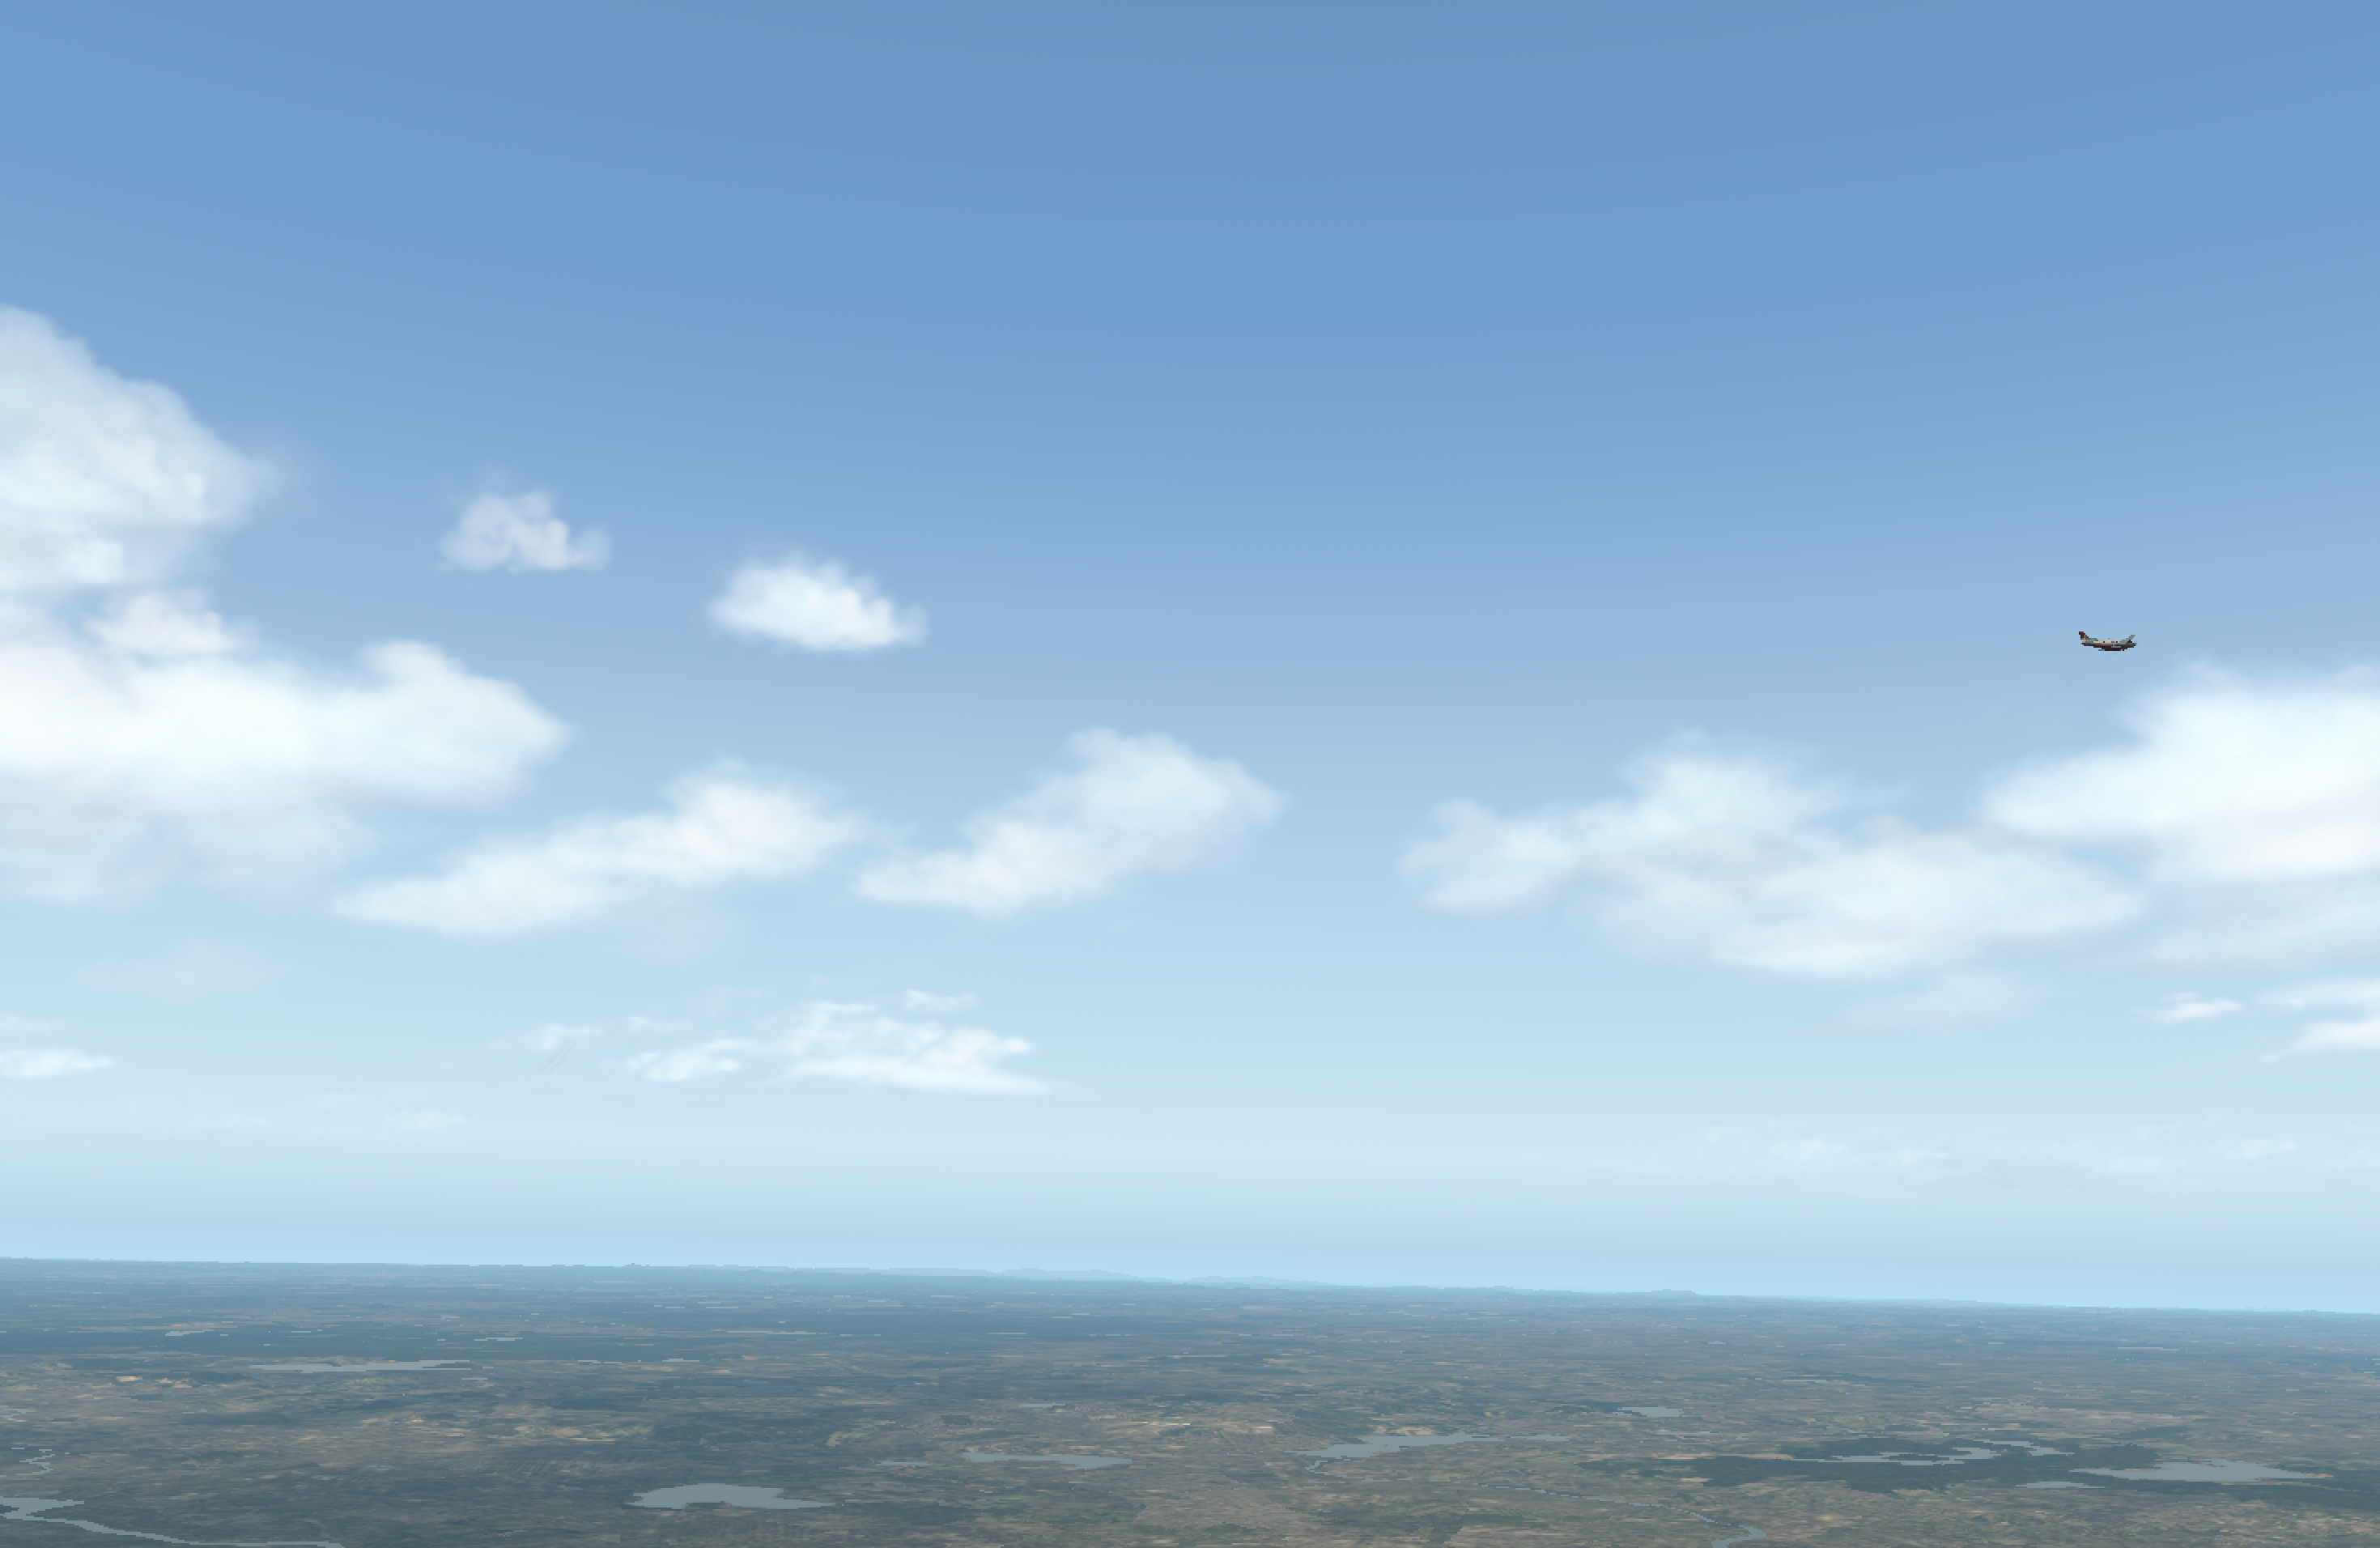aircraft: (2080, 633, 2154, 663)
